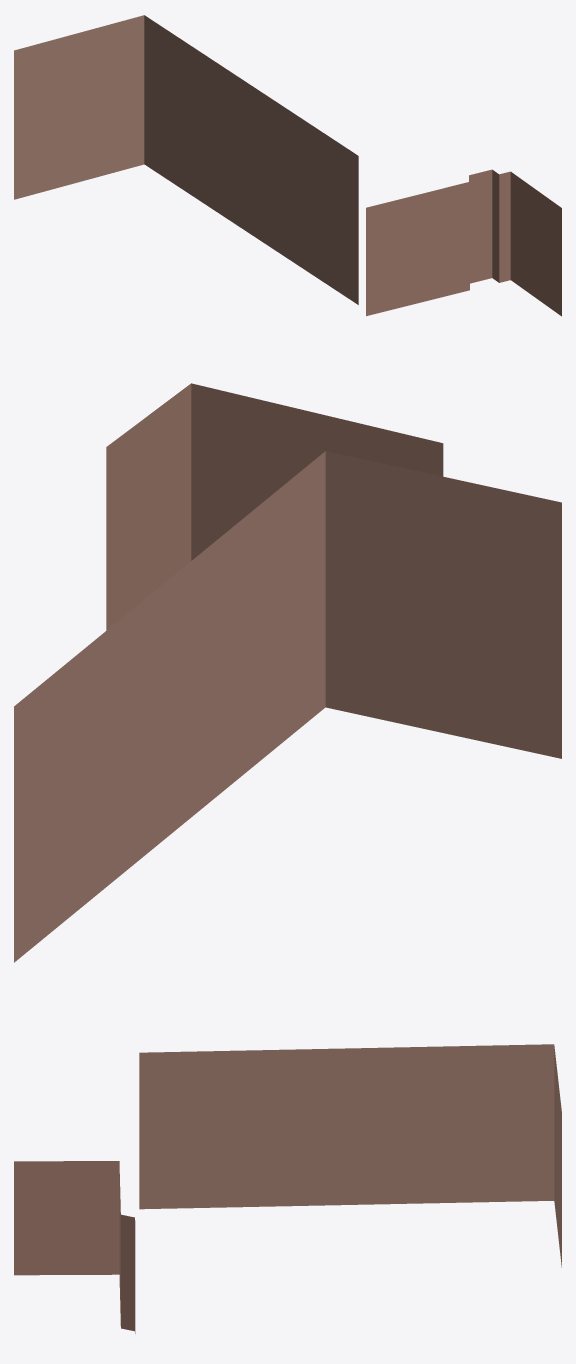
Rendered from c_1641_17831_buildings_residential.glb.
3 renders of one model, top to bottom at view 1: azimuth 30°, elevation 25°; view 2: azimuth 150°, elevation 25°; view 3: azimuth 270°, elevation 25°, orthographic. The views are drawn at different scales.
Visible parts, largest first — view 1: geometry_0; view 2: geometry_0; view 3: geometry_0.
Part boxes in pixels (x1,y1,x2,y2): geometry_0: [14, 15, 561, 316]; geometry_0: [14, 383, 561, 962]; geometry_0: [14, 1044, 561, 1333].
Size of the model in its own units: 22.45 by 11.08 by 34.89.
